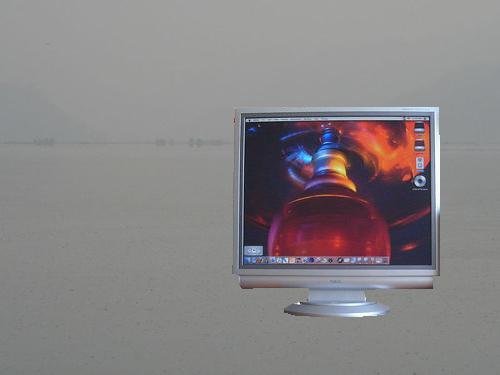tampered: (233, 108, 440, 317)
